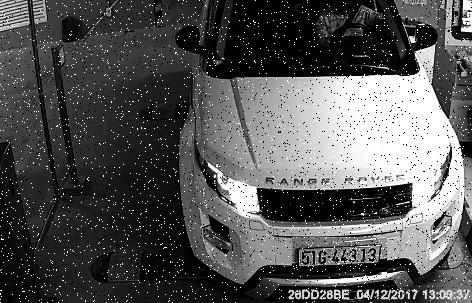License-plate: (293, 239, 388, 276)
